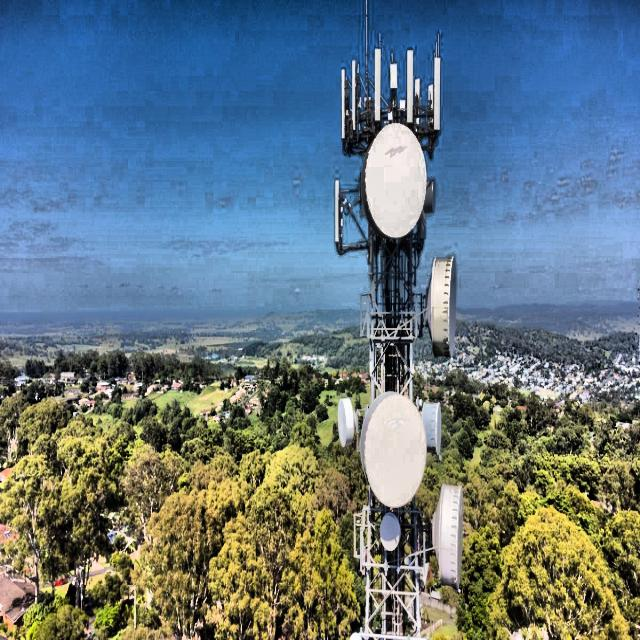antenna: (432, 32, 441, 130), (427, 83, 439, 129), (334, 178, 341, 254), (374, 47, 381, 121), (406, 48, 413, 122), (351, 59, 357, 130), (341, 67, 345, 139), (414, 77, 420, 125)
